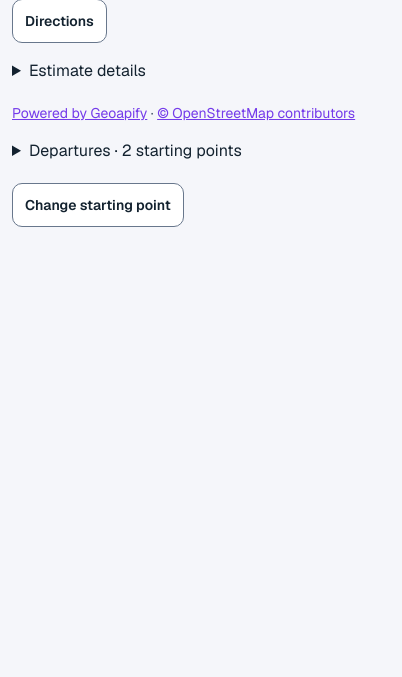
Test: Starting points for chosen people (#333) › starts over with the other group's people when switched to it while open
Click the heading "Departures · 2 starting points". click: (135, 150)
box: [29,140,242,161]
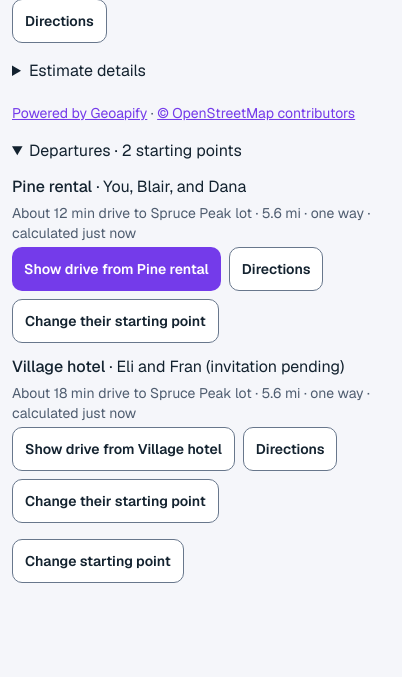
Click the button "Change their starting point" below "Eli and Fran (invitation pending)". click: (115, 501)
box: [12,479,219,523]
(page scrolled)
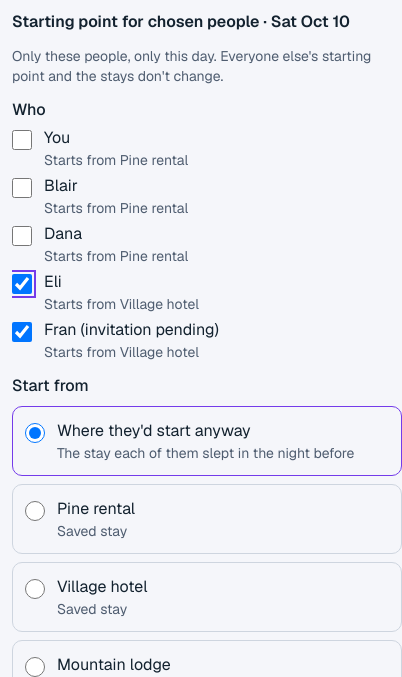
Click the radio button labelled "Pine rental Saved stay". click: (35, 511)
box: [25,501,45,521]
(page scrolled)
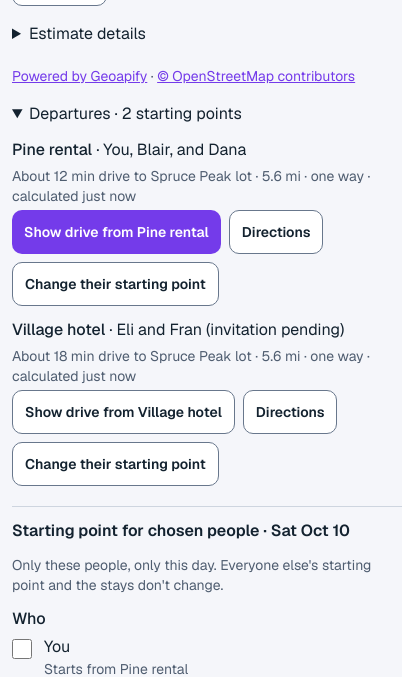
Click the button "Change their starting point" below "You, Blair, and Dana". click: (115, 284)
box: [12,262,219,306]
(page scrolled)
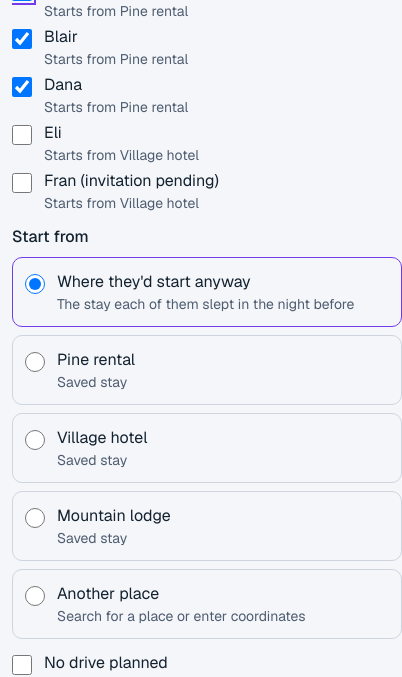
Now the radio button labelled "Where they'd start anyway" is checked, box [25,274,45,294]
